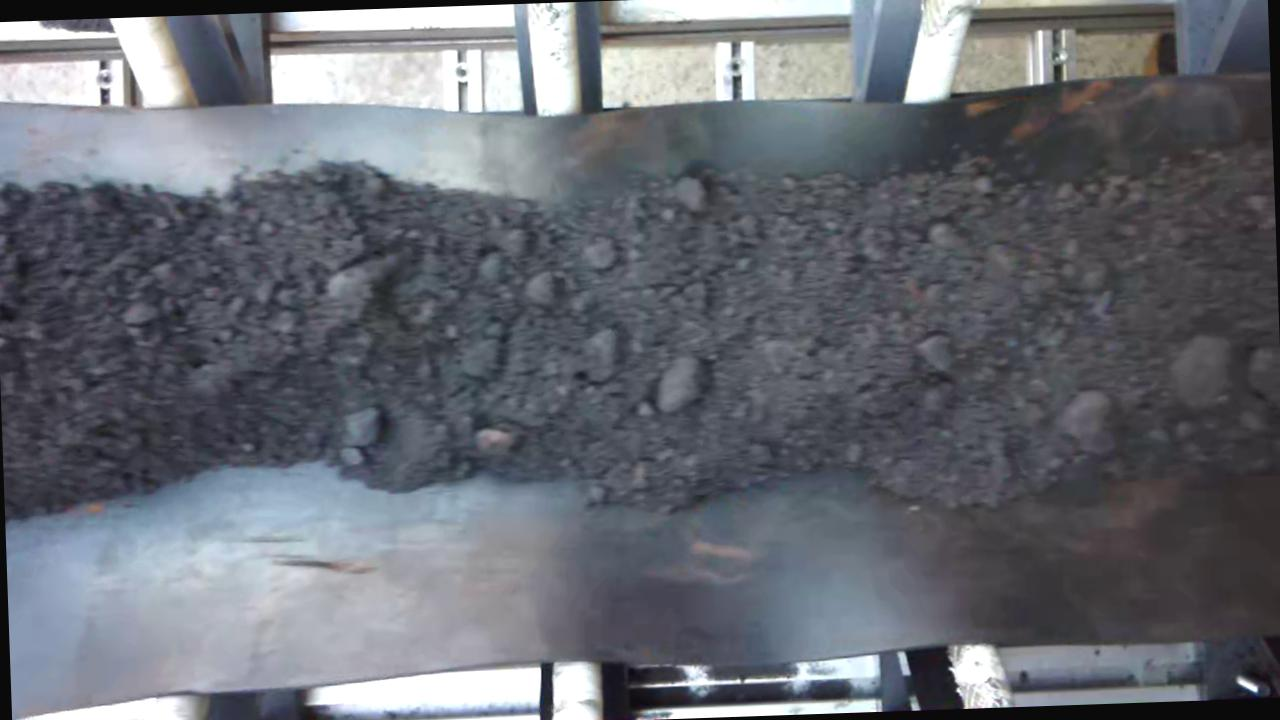conveyor: (1, 94, 1280, 683)
